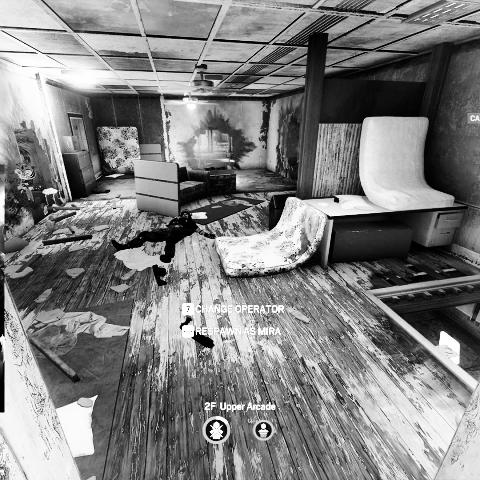Character: (111, 208, 218, 264)
Head: (180, 210, 192, 219)
